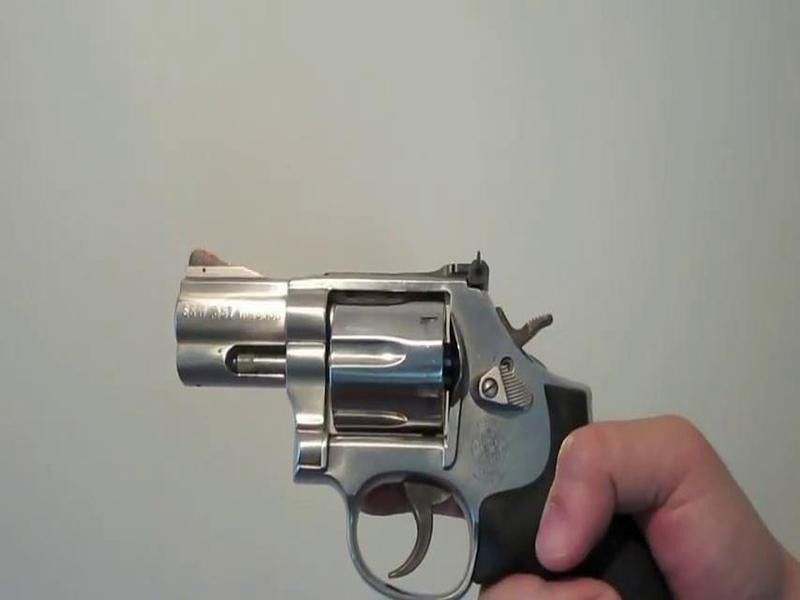Revolver: (153, 227, 658, 587)
